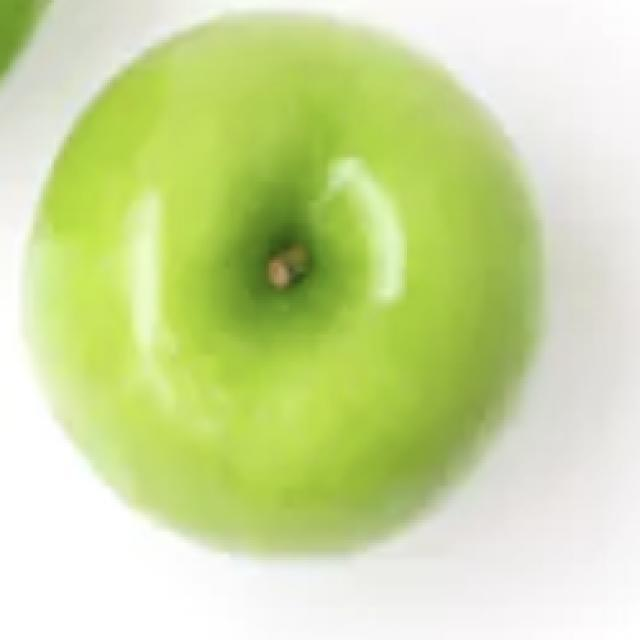Fresh Apple: (45, 15, 547, 530)
